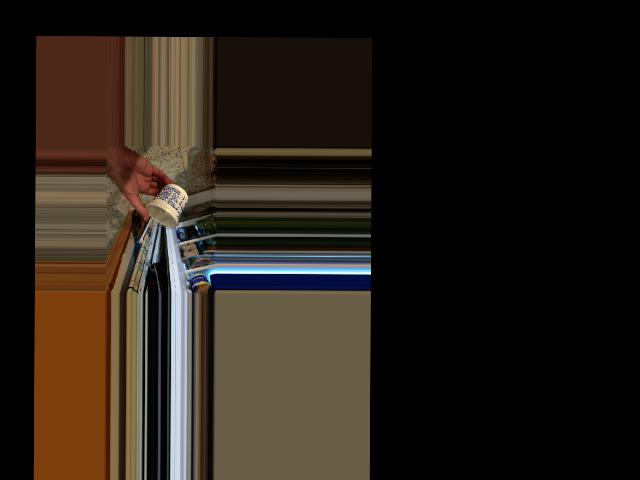cotage: (146, 182, 184, 229)
